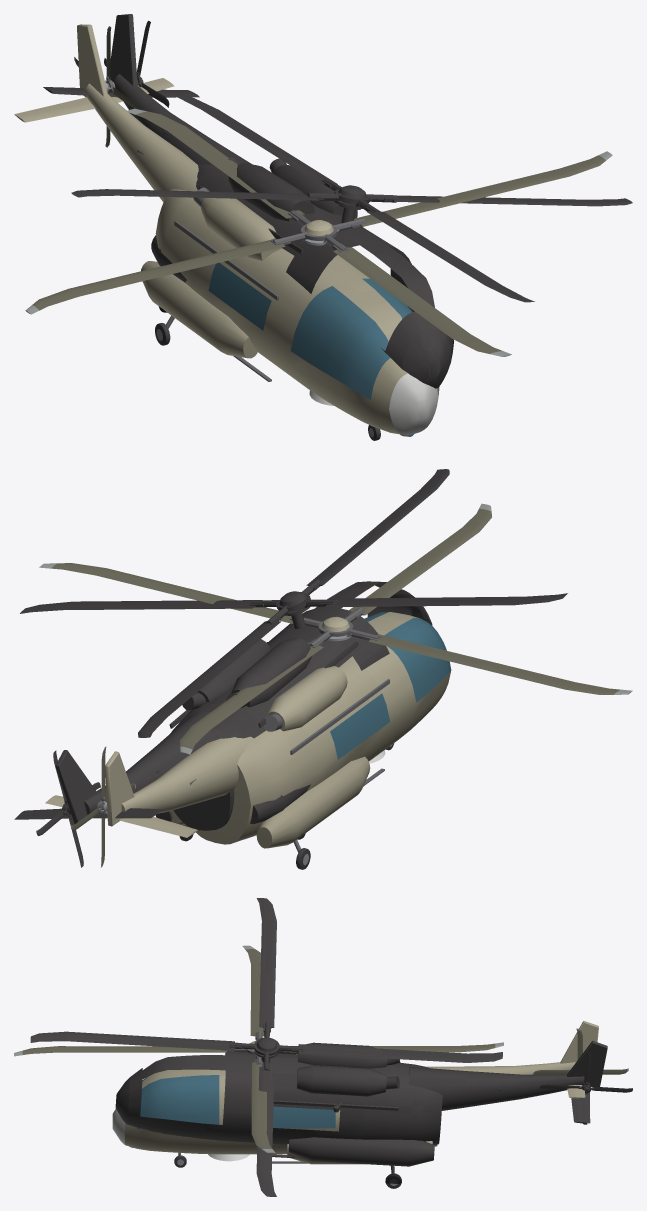
The model's file is navalHelicopter__nh90_sea_lion.glb.
3 renders of one model, top to bottom at view 1: azimuth 30°, elevation 25°; view 2: azimuth 150°, elevation 25°; view 3: azimuth 270°, elevation 25°, orthographic. The views are drawn at different scales.
Visible parts, largest first — view 1: Fuselage_Mesh, Wreck, Rotor_Main_Mesh, Engines_Mesh, Rotor_Tail_Mesh; view 2: Fuselage_Mesh, Wreck, Rotor_Main_Mesh, Engines_Mesh, Rotor_Tail_Mesh; view 3: Wreck, Fuselage_Mesh, Rotor_Main_Mesh, Rotor_Tail_Mesh.
Part boxes in pixels (left/top/right/bottom): Fuselage_Mesh: left=14, top=24, right=439, bottom=436; Wreck: left=43, top=14, right=632, bottom=388; Rotor_Main_Mesh: left=25, top=108, right=612, bottom=356; Engines_Mesh: left=193, top=187, right=281, bottom=260; Rotor_Tail_Mesh: left=74, top=26, right=140, bottom=147; Fuselage_Mesh: left=45, top=612, right=451, bottom=848; Wreck: left=14, top=469, right=567, bottom=867; Rotor_Main_Mesh: left=39, top=503, right=632, bottom=754; Engines_Mesh: left=263, top=666, right=347, bottom=731; Rotor_Tail_Mesh: left=71, top=746, right=135, bottom=867; Wreck: left=30, top=898, right=632, bottom=1196; Fuselage_Mesh: left=112, top=1021, right=598, bottom=1164; Rotor_Main_Mesh: left=14, top=945, right=503, bottom=1153; Rotor_Tail_Mesh: left=532, top=1028, right=628, bottom=1074.
Size of what is drawn, in the model's own units: 16.83 by 6.82 by 20.6.
